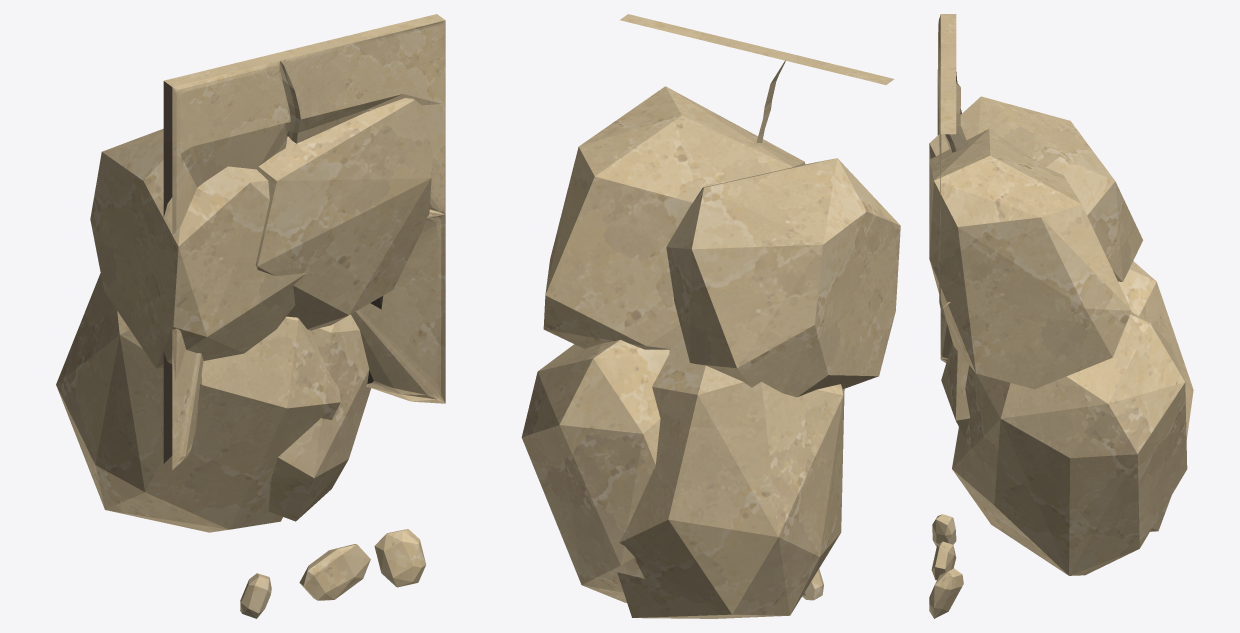
The model's file is ground_bottom_square_edge_03.glb.
3 renders of one model, left to right at view 1: azimuth 30°, elevation 25°; view 2: azimuth 150°, elevation 25°; view 3: azimuth 270°, elevation 25°, orthographic. The views are drawn at different scales.
Parts seen in each view (by area): view 1: GroundBottomSquareEdge03_Body; view 2: GroundBottomSquareEdge03_Body; view 3: GroundBottomSquareEdge03_Body.
Boxes of the visible parts, x1=… form: GroundBottomSquareEdge03_Body: x1=56, y1=14, x2=445, y2=618; GroundBottomSquareEdge03_Body: x1=521, y1=14, x2=900, y2=618; GroundBottomSquareEdge03_Body: x1=929, y1=14, x2=1193, y2=618.
Bounding box in the file's own units: 1 × 1.94 × 1.04.
5 materials, 4 textured.
